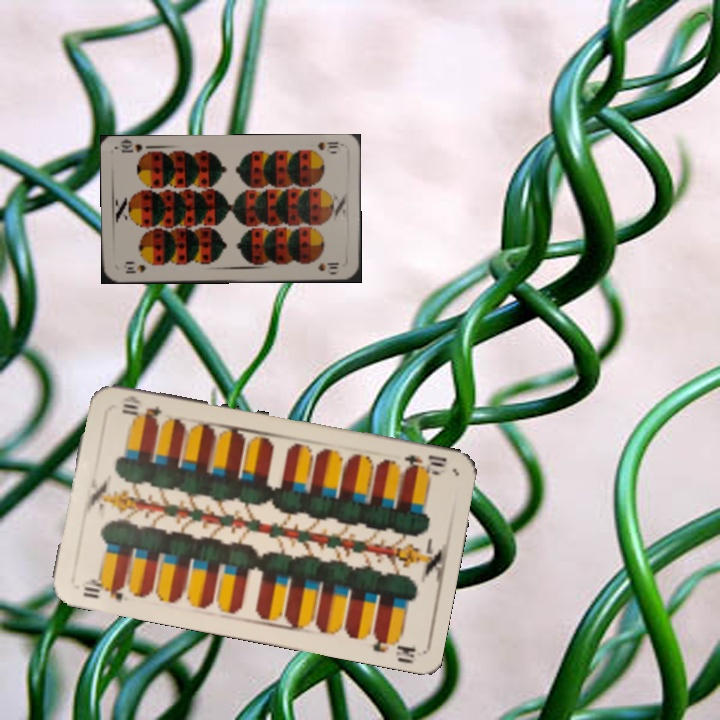E10: (77, 574, 127, 604), (400, 450, 449, 478)
S10: (313, 138, 341, 153), (122, 261, 149, 276)
